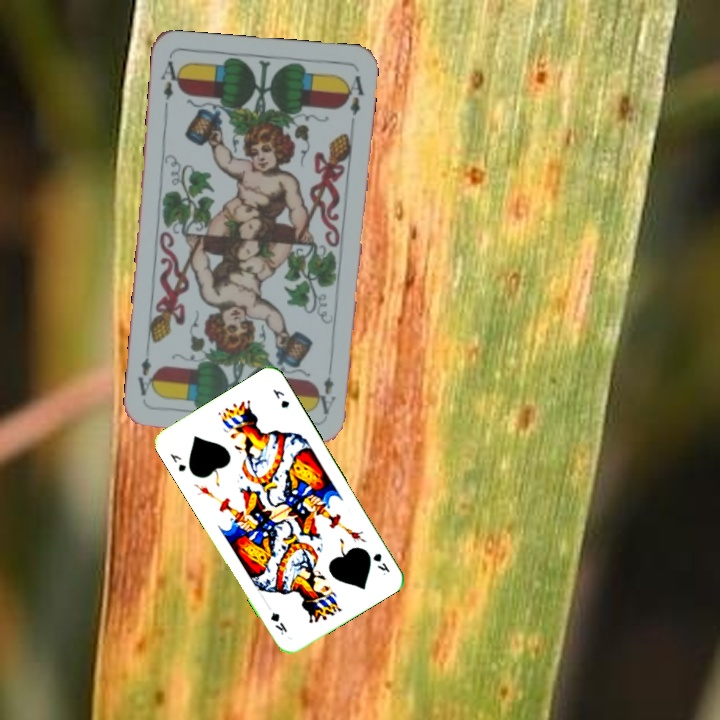EA: (157, 56, 184, 114), (317, 358, 338, 417)
GK: (369, 549, 393, 578), (166, 449, 189, 474)
